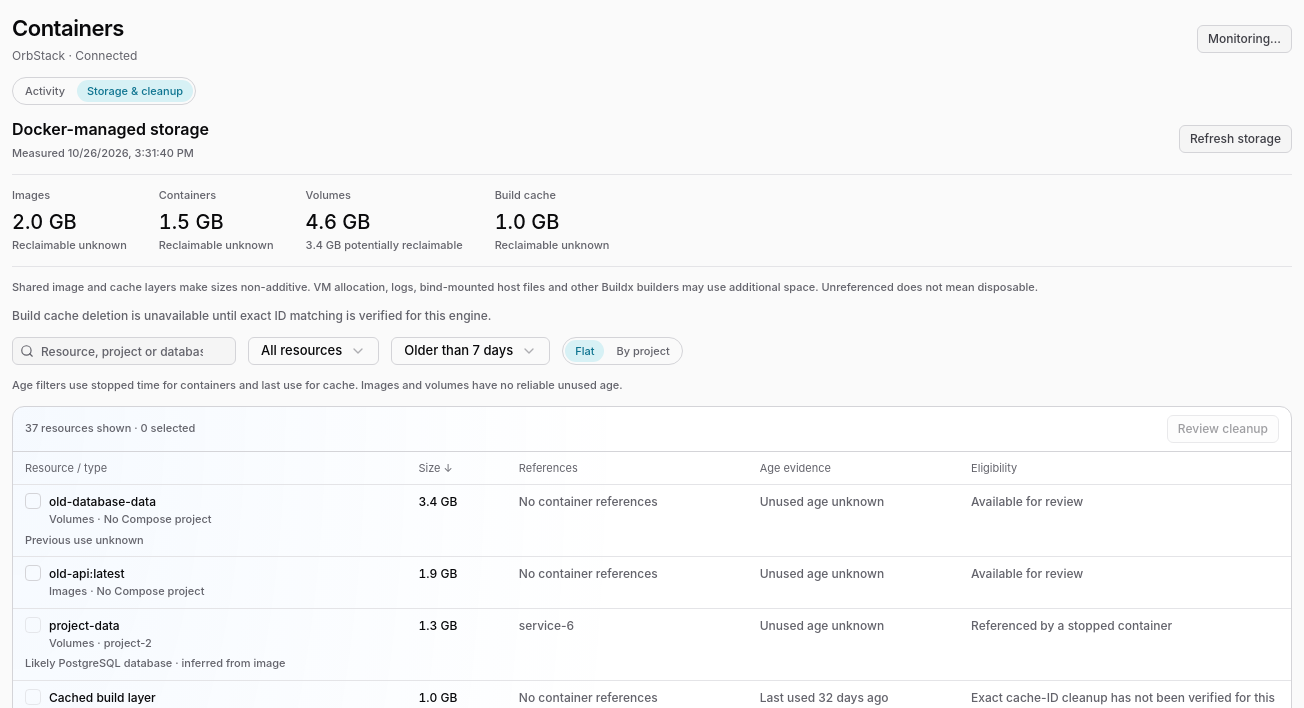
Test: discards a prepared review from a changed engine generation
Click the checkbox named "Select old-database-data" at {"x": 33, "y": 501}, box left=25, top=493, right=41, bottom=509
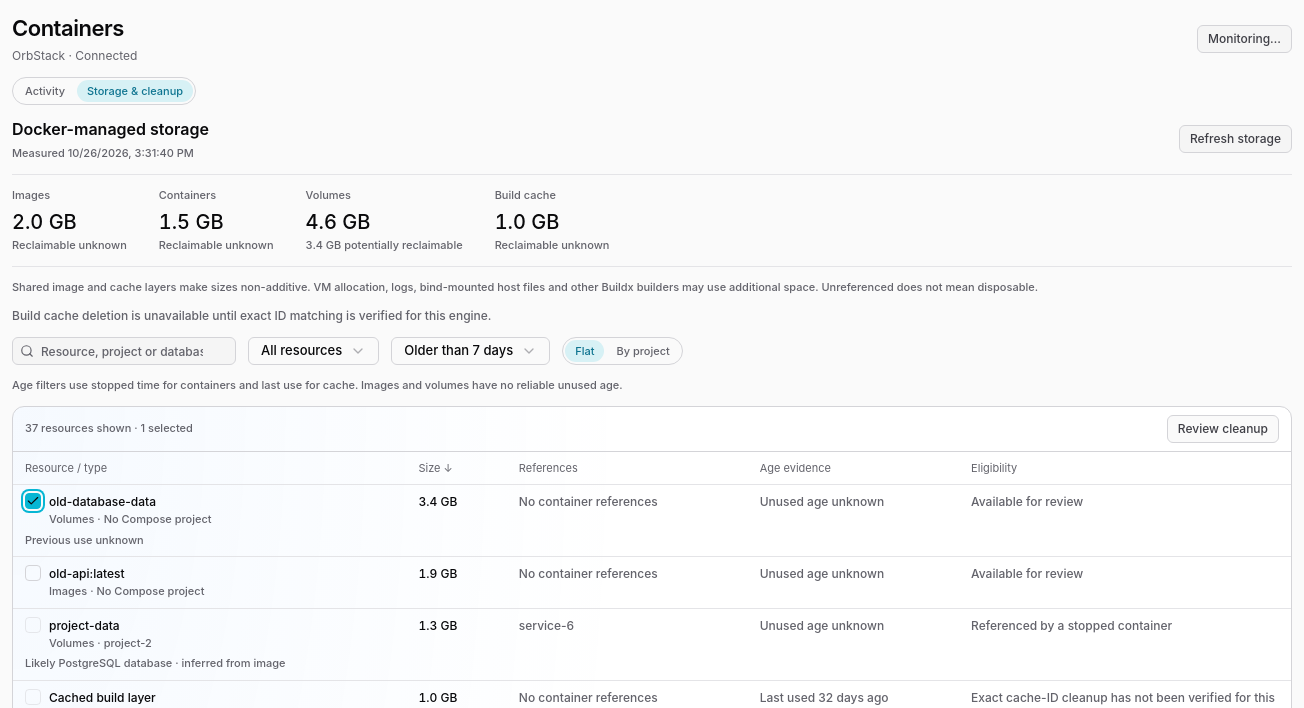
Click the button "Review cleanup" at {"x": 1223, "y": 428}, box left=1167, top=414, right=1279, bottom=442
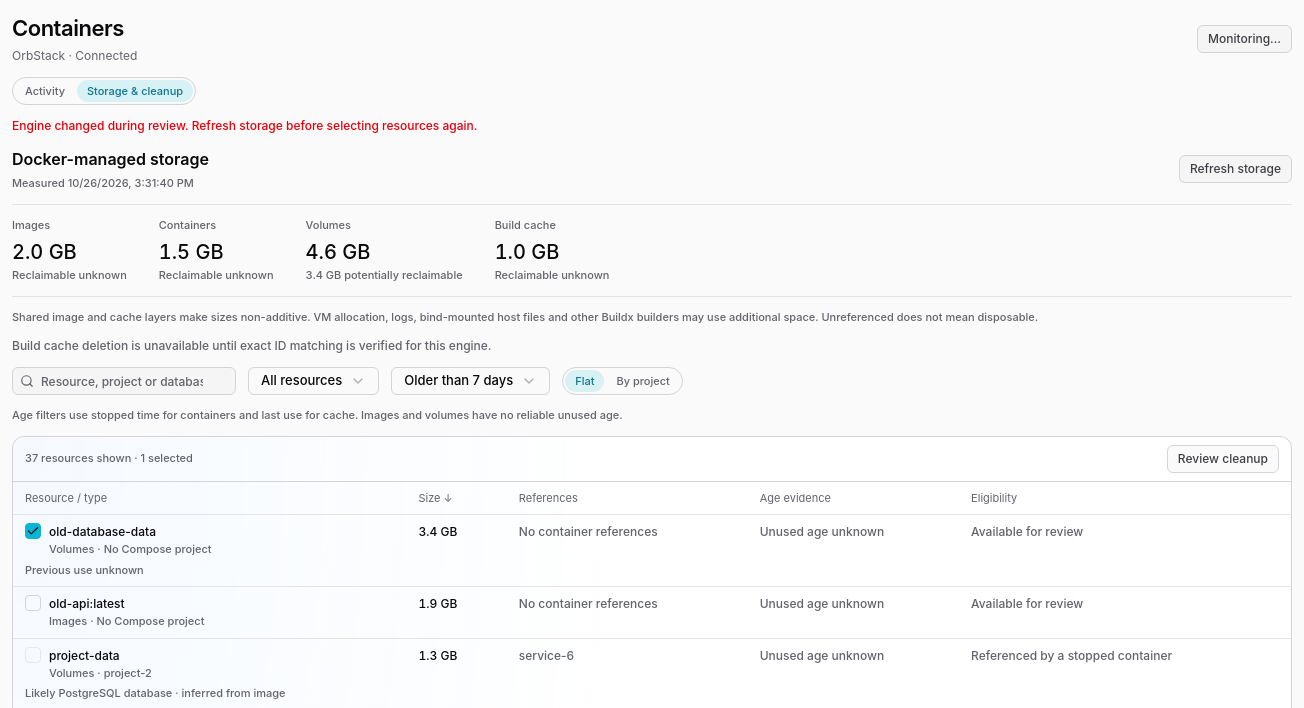
Check: the message shows "Engine changed during review", box left=12, top=118, right=478, bottom=133
